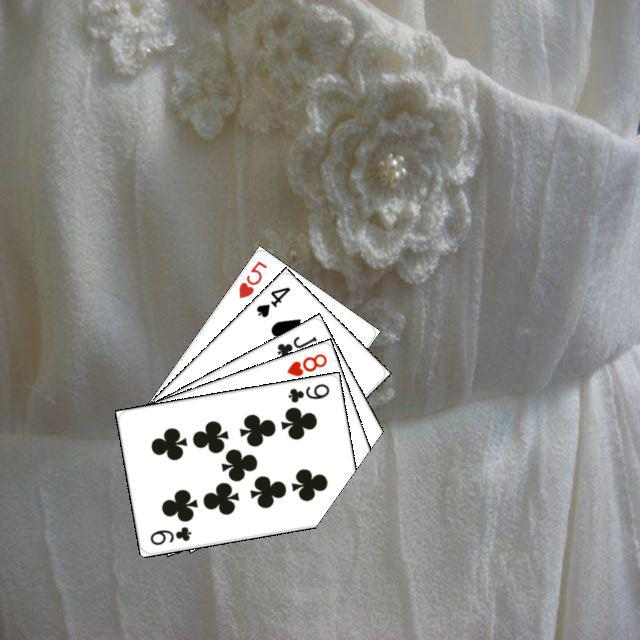4s: (251, 282, 292, 319)
5h: (233, 256, 269, 300)
8h: (282, 348, 329, 378)
9c: (283, 378, 331, 404), (145, 521, 193, 547)
Jc: (272, 331, 319, 360)
